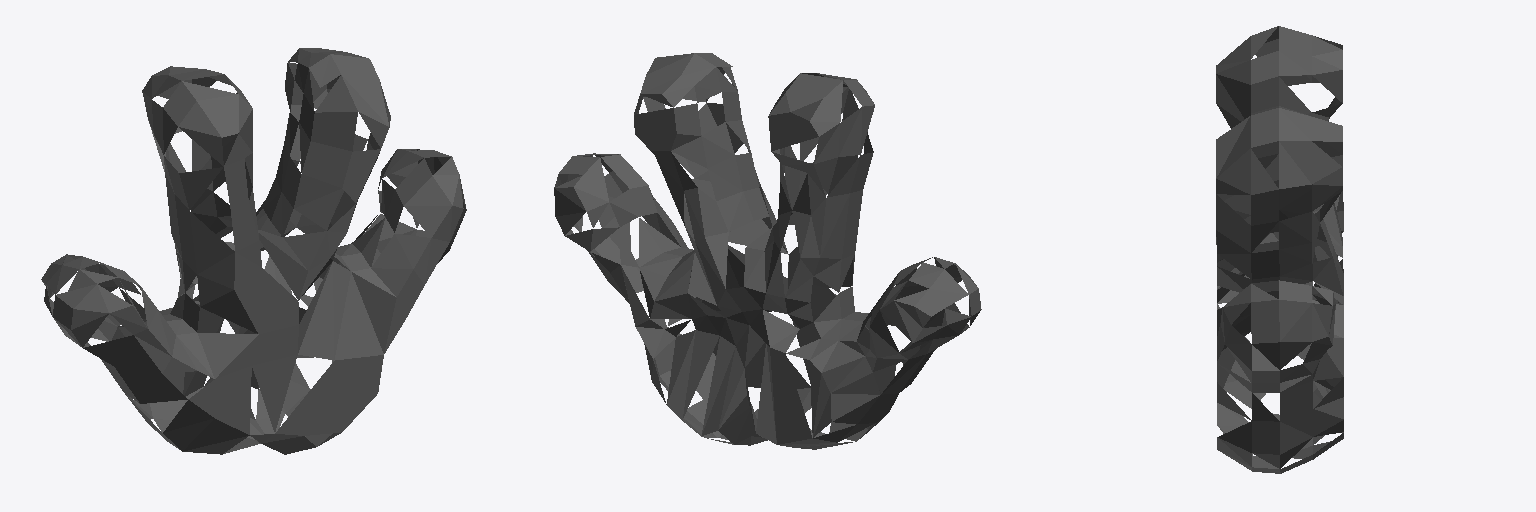
Rendered from hand1.obj.
3 views of the same model, side by side, from view 1: azimuth 30°, elevation 25°; view 2: azimuth 150°, elevation 25°; view 3: azimuth 270°, elevation 25° (orthographic).
Visible parts, largest first — view 1: 0; view 2: 0; view 3: 0.
Part boxes in pixels (bbox=[...]): 0: bbox=[41, 48, 466, 454]; 0: bbox=[554, 53, 981, 449]; 0: bbox=[1216, 26, 1343, 473].
Size of the model in its own units: 920 by 836 by 251.